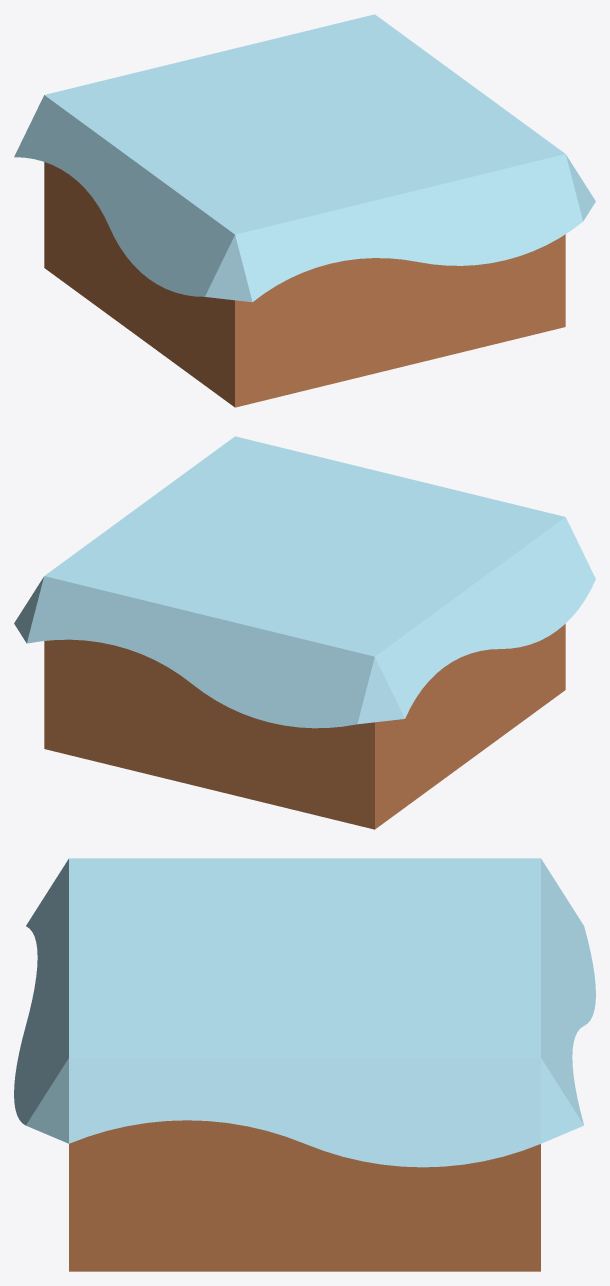
Rendered from blockSnowHalf.glb.
3 views of the same model, one above another, from view 1: azimuth 30°, elevation 25°; view 2: azimuth 150°, elevation 25°; view 3: azimuth 270°, elevation 25° (orthographic). The views are drawn at different scales.
Parts seen in each view (by area): view 1: blockSnowHalf; view 2: blockSnowHalf; view 3: blockSnowHalf.
Part boxes in pixels (x1,y1,x2,y2): blockSnowHalf: (14,14,595,407); blockSnowHalf: (14,436,595,829); blockSnowHalf: (14,858,595,1271).
Bounding box in the file's own units: 1.23 × 0.5 × 1.23.
